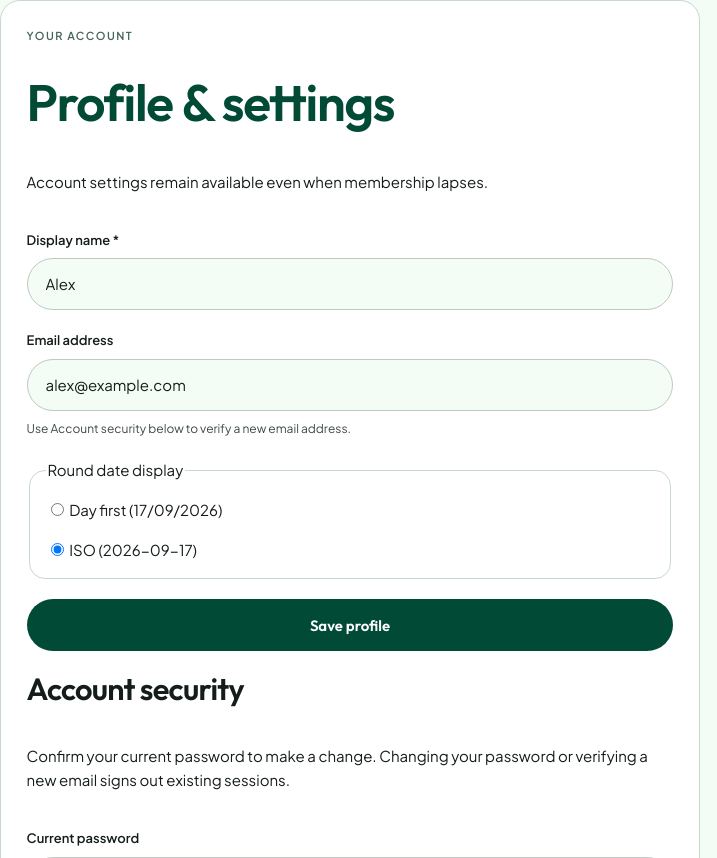
profile submits only name and actual date display preference and preserves failed input
The image size is (717, 858).
Replace the text in the field labelled "Display name *" with "Taylor" at coordinates (350, 284), box [27, 258, 673, 310]
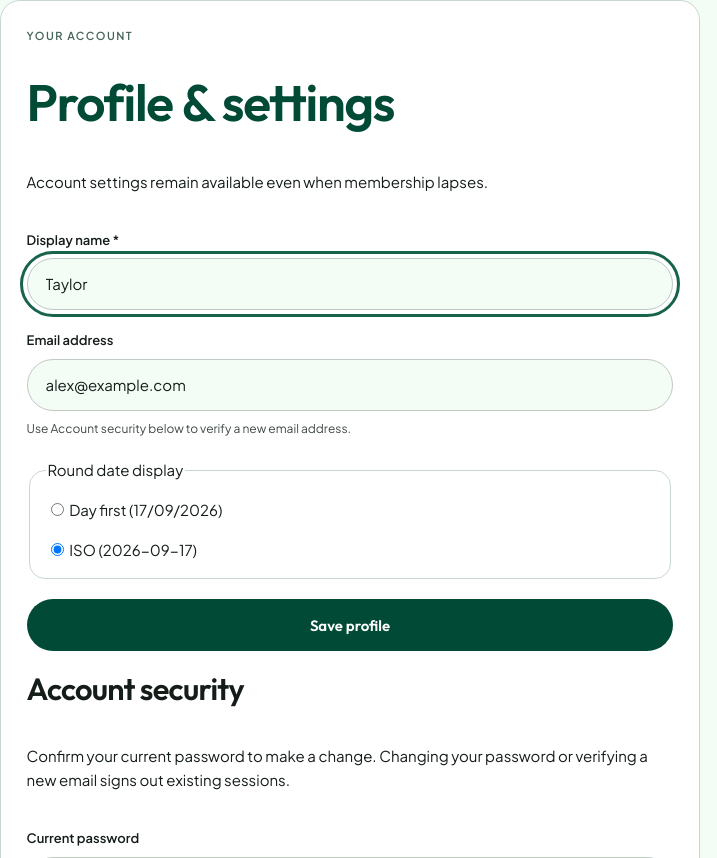
Click the button "Save profile".
click(350, 625)  # box [27, 599, 673, 651]
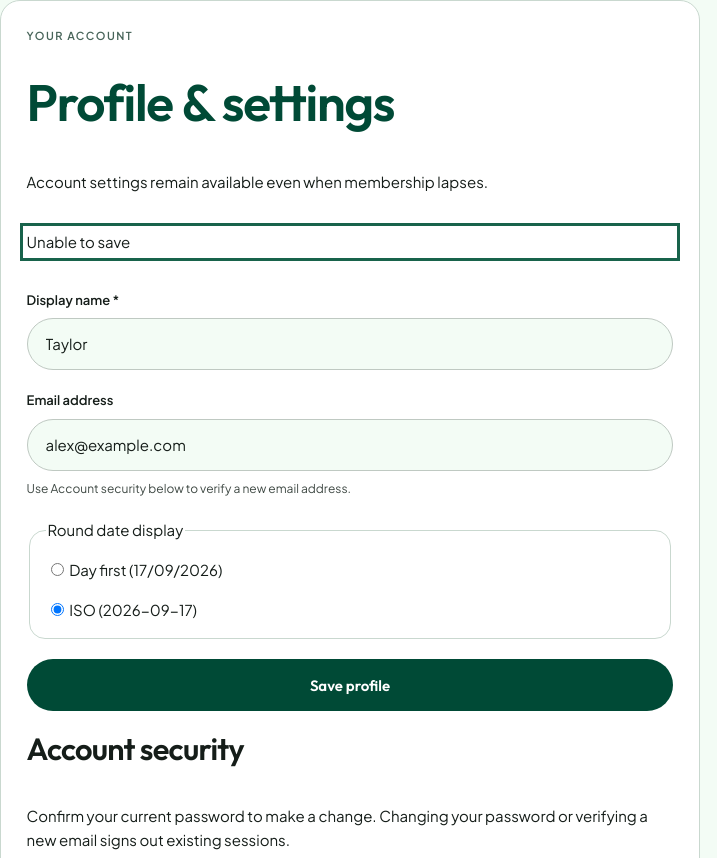
expect the message reads "Unable to save": met, box [27, 232, 130, 251]
Click the button "Save profile".
click(350, 685)  # box [27, 659, 673, 711]
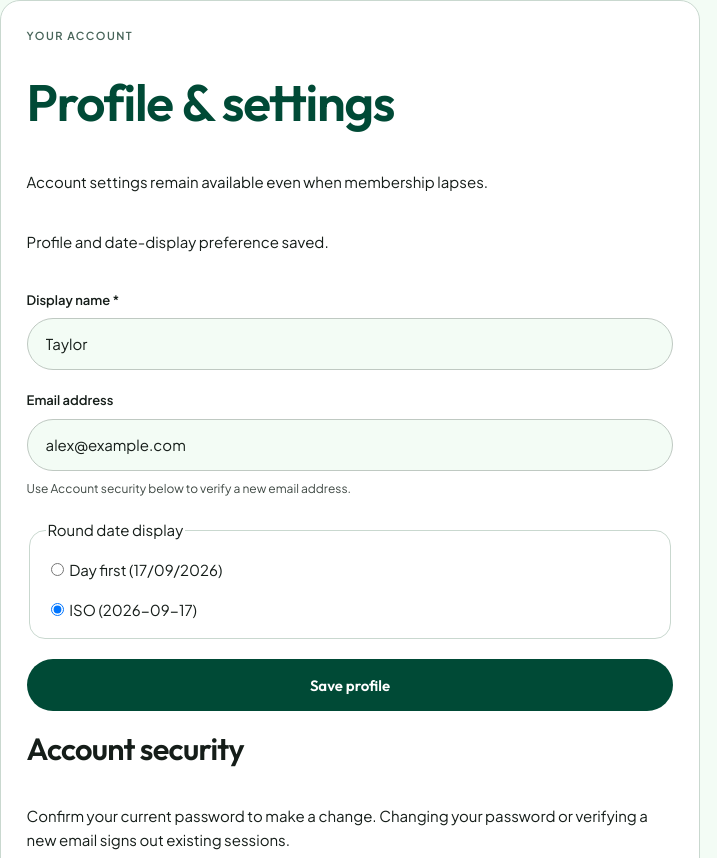
expect the message shows "saved": met, box [27, 232, 329, 251]
